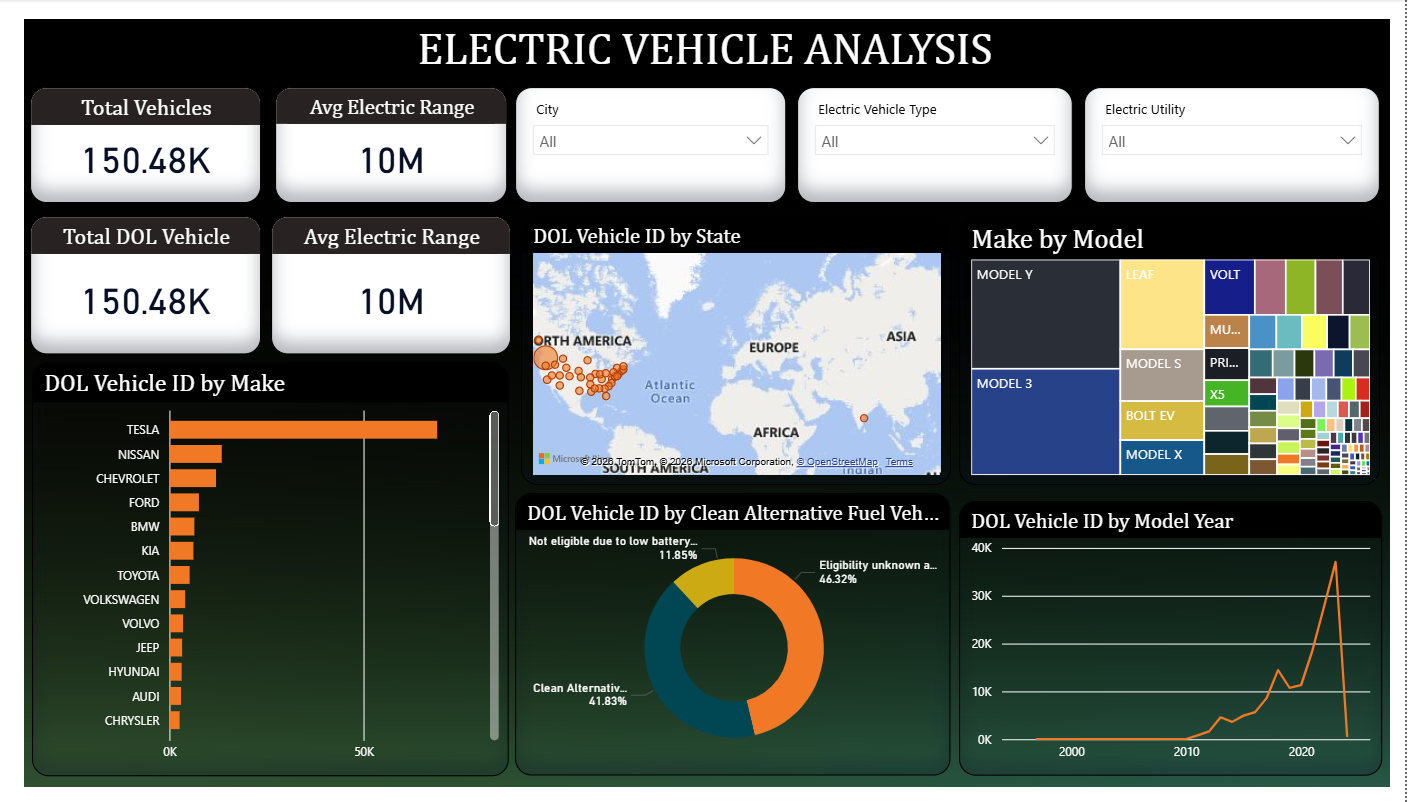

The dashboard page shown, as its layout file describes it:
{"tool":"powerbi","page":{"name":"Page 1","canvas":[1280,720],"ordinal":0},"visuals":[{"type":"textbox","title":"ELECTRIC VEHICLE ANALYSIS","box":[49.3,20.6,1209,49.3],"z":0},{"type":"card","title":"Total Vehicles ","fields":{"Values":["CountNonNull(Electric_Vehicle_Population_Data.DOL Vehicle ID)"]},"box":[49.3,78.8,206.9,103.9],"z":1000},{"type":"card","title":"Avg Electric Range ","fields":{"Values":["Sum(Electric_Vehicle_Population_Data.Electric Range)"]},"box":[268.7,78.8,207.8,103.9],"z":2000},{"type":"card","title":"Total DOL Vehicle","fields":{"Values":["CountNonNull(Electric_Vehicle_Population_Data.DOL Vehicle ID)"]},"box":[49.3,194.3,206.9,124.5],"z":3000},{"type":"slicer","fields":{"Values":["Electric_Vehicle_Population_Data.City"]},"box":[483.6,78.8,242.7,103.9],"z":4000},{"type":"card","title":"Avg Electric Range ","fields":{"Values":["Sum(Electric_Vehicle_Population_Data.Electric Range)"]},"box":[265.1,194.3,214.9,124.5],"z":5000},{"type":"slicer","fields":{"Values":["Electric_Vehicle_Population_Data.Electric Utility"]},"box":[993.1,78.8,265.1,103.9],"z":6000},{"type":"slicer","fields":{"Values":["Electric_Vehicle_Population_Data.Electric Vehicle Type"]},"box":[736.1,78.8,247.2,103.9],"z":7000},{"type":"map","title":"DOL Vehicle ID by State","fields":{"Size":["CountNonNull(Electric_Vehicle_Population_Data.DOL Vehicle ID)"],"Category":["Electric_Vehicle_Population_Data.State"]},"box":[489,194.3,385.1,240.9],"z":8000},{"type":"treemap","title":"Make by Model","fields":{"Details":["Electric_Vehicle_Population_Data.Model"],"Values":["CountNonNull(Electric_Vehicle_Population_Data.Make)"]},"box":[881.2,194.3,377,240.9],"z":9000},{"type":"barChart","title":" DOL Vehicle ID by Make","fields":{"Y":["CountNonNull(Electric_Vehicle_Population_Data.DOL Vehicle ID)"],"Category":["Electric_Vehicle_Population_Data.Make"]},"box":[51,325.1,427.2,370.7],"z":10000},{"type":"lineChart","title":"DOL Vehicle ID by Model Year","fields":{"Category":["Electric_Vehicle_Population_Data.Model Year"],"Y":["CountNonNull(Electric_Vehicle_Population_Data.DOL Vehicle ID)"]},"box":[881.2,449.6,378.8,246.3],"z":11000},{"type":"donutChart","title":"DOL Vehicle ID by Clean Alternative Fuel Vehicle (CAFV) Eligibility","fields":{"Y":["CountNonNull(Electric_Vehicle_Population_Data.DOL Vehicle ID)"],"Category":["Electric_Vehicle_Population_Data.Clean Alternative Fuel Vehicle (CAFV) Eligibility"]},"box":[483.6,442.4,390.4,253.4],"z":12000}]}

Visuals, with their boxes in screenshot pixels (x1, y1, x2, y2), scaled from the page's 1280x720 canvas onto the 1408x802 screenshot:
"ELECTRIC VEHICLE ANALYSIS" textbox: crop(54, 23, 1384, 78)
"Total Vehicles " card: crop(54, 88, 282, 204)
"Avg Electric Range " card: crop(296, 88, 524, 204)
"Total DOL Vehicle" card: crop(54, 216, 282, 355)
slicer - Electric_Vehicle_Population_Data.City: crop(532, 88, 799, 204)
"Avg Electric Range " card: crop(292, 216, 528, 355)
slicer - Electric_Vehicle_Population_Data.Electric Utility: crop(1092, 88, 1384, 204)
slicer - Electric_Vehicle_Population_Data.Electric Vehicle Type: crop(810, 88, 1082, 204)
"DOL Vehicle ID by State" map: crop(538, 216, 962, 485)
"Make by Model" treemap: crop(969, 216, 1384, 485)
" DOL Vehicle ID by Make" barChart: crop(56, 362, 526, 775)
"DOL Vehicle ID by Model Year" lineChart: crop(969, 501, 1386, 775)
"DOL Vehicle ID by Clean Alternative Fuel Vehicle (CAFV) Eligibility" donutChart: crop(532, 493, 961, 775)
